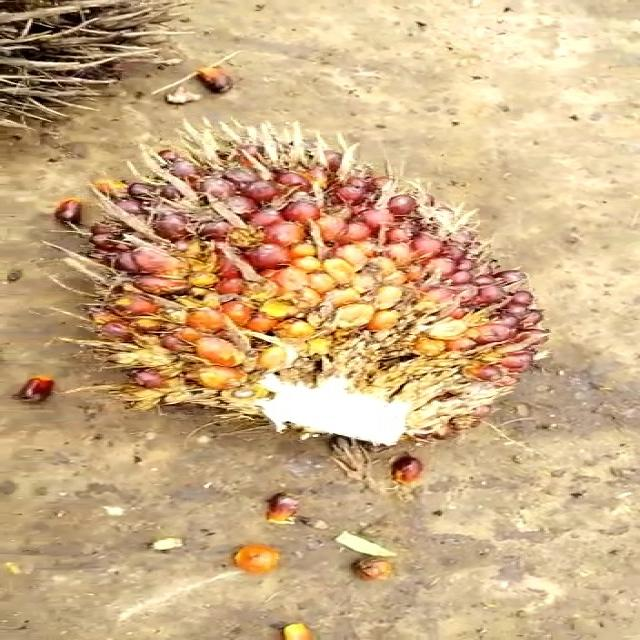palm oil: (63, 146, 566, 464)
